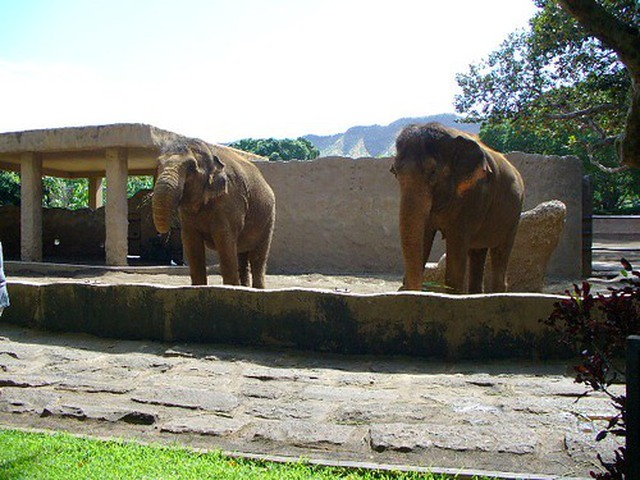Elephant: (390, 121, 529, 294), (149, 132, 277, 286)
